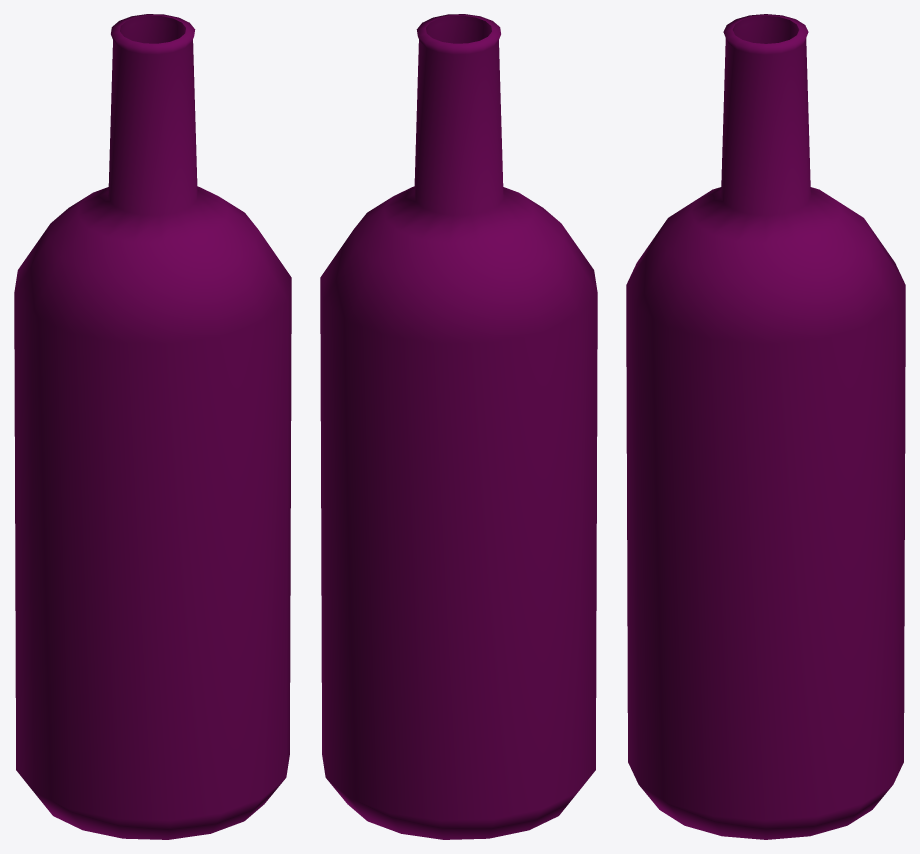
File: Wine.fbx
The picture shows the model from 3 angles, left to right: view 1: azimuth 30°, elevation 25°; view 2: azimuth 150°, elevation 25°; view 3: azimuth 270°, elevation 25°; orthographic projection.
Visible parts, largest first — view 1: Wine; view 2: Wine; view 3: Wine.
Boxes of the visible parts, box(x1,y1,x2,y2) form: Wine: box(14, 14, 291, 839); Wine: box(320, 14, 597, 839); Wine: box(626, 14, 905, 839).
Bounding box in the file's own units: 1.47 × 4.42 × 1.47.
1 material, 1 textured.
